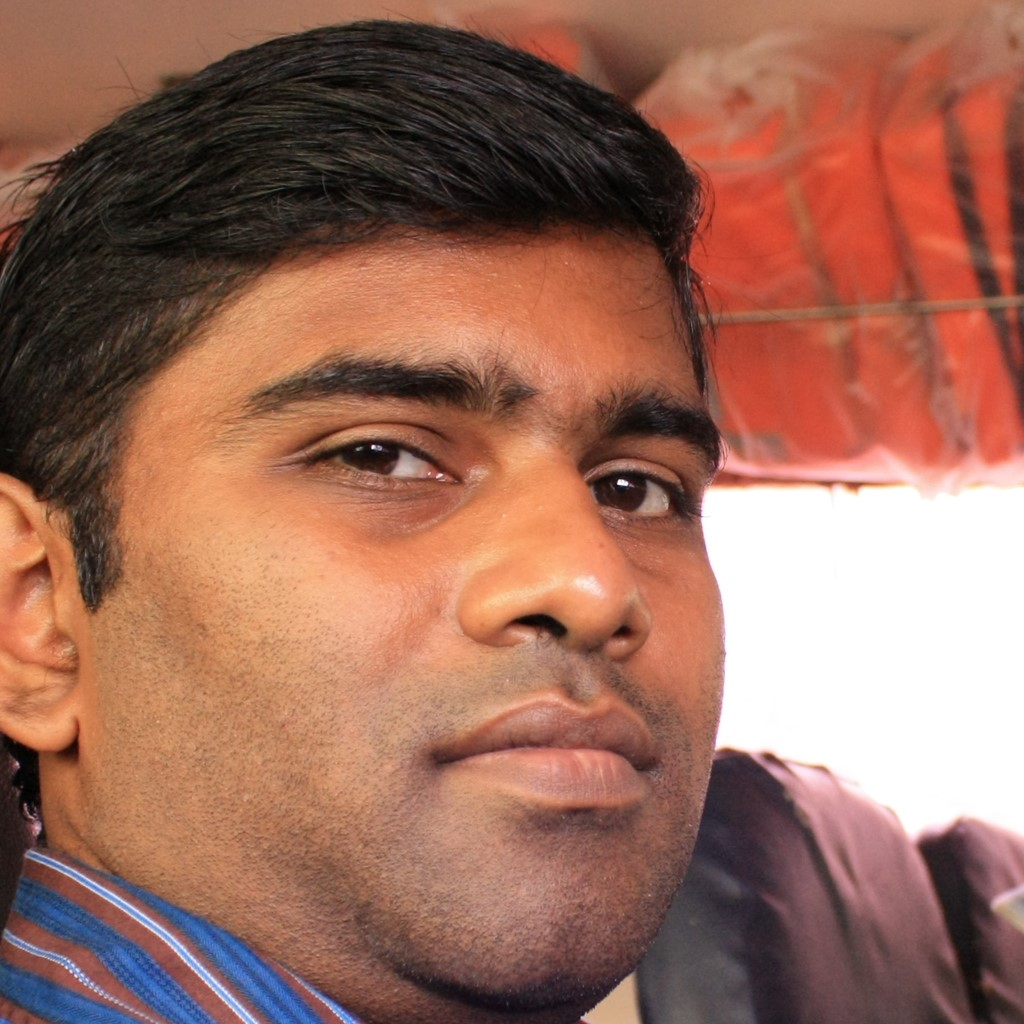sin_mascara: (123, 131, 719, 987)
